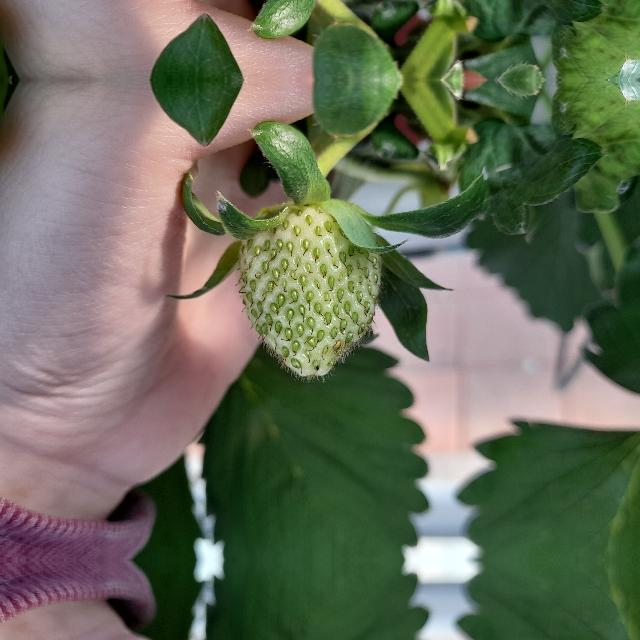Health_25: (236, 204, 382, 376)
